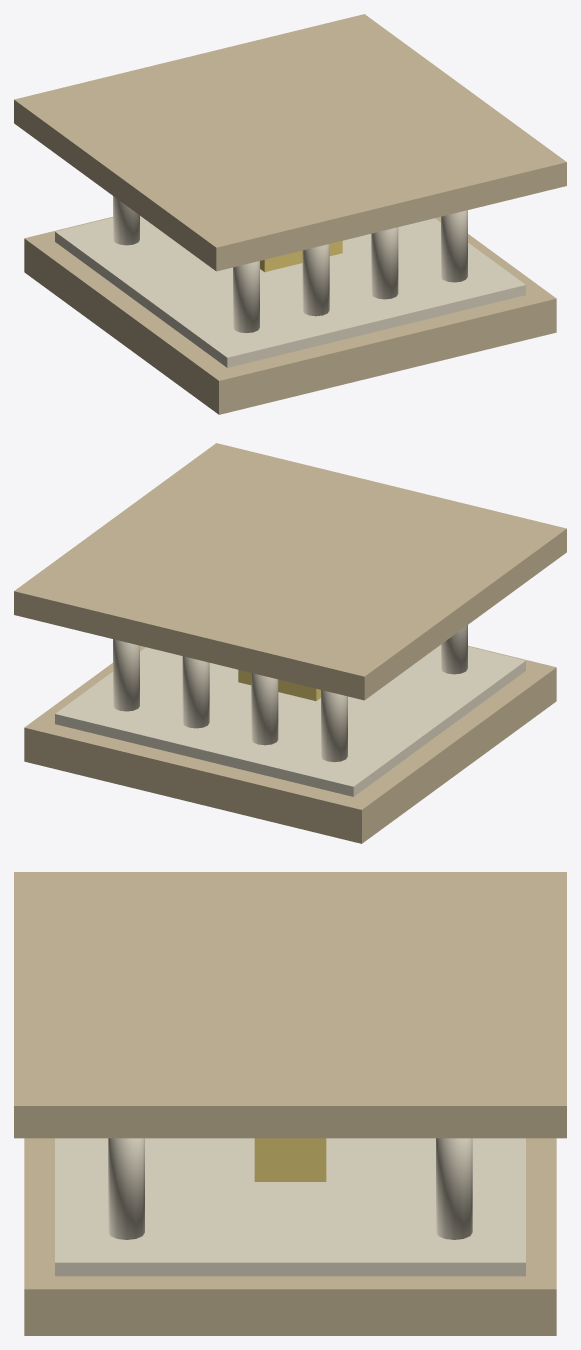
The model's file is shrine.glb.
3 renders of one model, top to bottom at view 1: azimuth 30°, elevation 25°; view 2: azimuth 150°, elevation 25°; view 3: azimuth 270°, elevation 25°, orthographic. The views are drawn at different scales.
Visible parts, largest first — view 1: Roof, Floor, Base, Pillar.004, Pillar.002, Pillar.006, Pillar, Pillar.001, Chest; view 2: Roof, Floor, Base, Pillar.005, Pillar.003, Pillar.007, Pillar.001, Pillar, Chest; view 3: Roof, Floor, Base, Pillar.006, Pillar.007, Chest.
Boxes of the visible parts, bbox=[...] form: Roof: bbox=[14, 14, 566, 271]; Floor: bbox=[55, 216, 525, 367]; Base: bbox=[24, 216, 556, 414]; Pillar.004: bbox=[371, 227, 398, 299]; Pillar.002: bbox=[302, 244, 329, 316]; Pillar.006: bbox=[441, 210, 467, 282]; Pillar: bbox=[233, 261, 259, 333]; Pillar.001: bbox=[113, 196, 139, 245]; Chest: bbox=[260, 241, 342, 272]; Roof: bbox=[14, 443, 566, 700]; Floor: bbox=[55, 645, 525, 796]; Base: bbox=[24, 645, 556, 843]; Pillar.005: bbox=[182, 656, 209, 728]; Pillar.003: bbox=[251, 673, 278, 745]; Pillar.007: bbox=[113, 639, 139, 711]; Pillar.001: bbox=[321, 690, 347, 762]; Pillar: bbox=[441, 625, 467, 674]; Chest: bbox=[238, 670, 320, 701]; Roof: bbox=[14, 872, 566, 1138]; Floor: bbox=[55, 1138, 525, 1276]; Base: bbox=[24, 1138, 556, 1335]; Pillar.006: bbox=[108, 1138, 144, 1239]; Pillar.007: bbox=[436, 1138, 472, 1239]; Chest: bbox=[254, 1138, 326, 1181].
Size of the model in its own units: 5.4 by 2.52 by 5.4.
